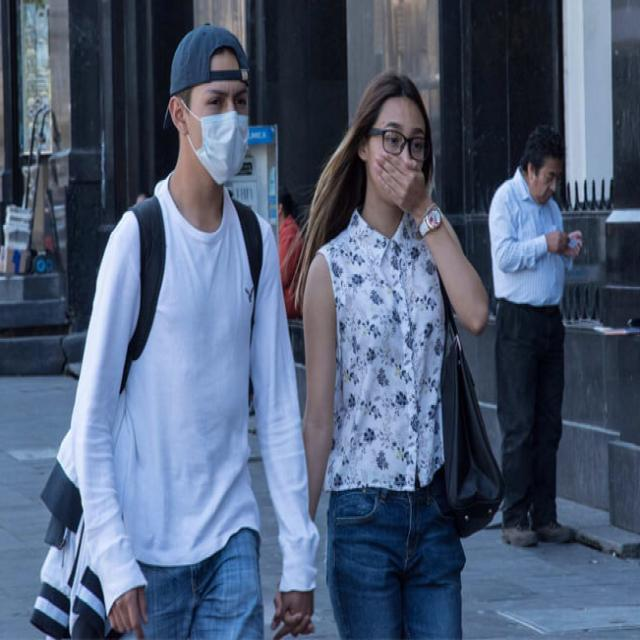adult: (63, 26, 323, 640), (301, 76, 491, 640), (489, 118, 583, 546)
